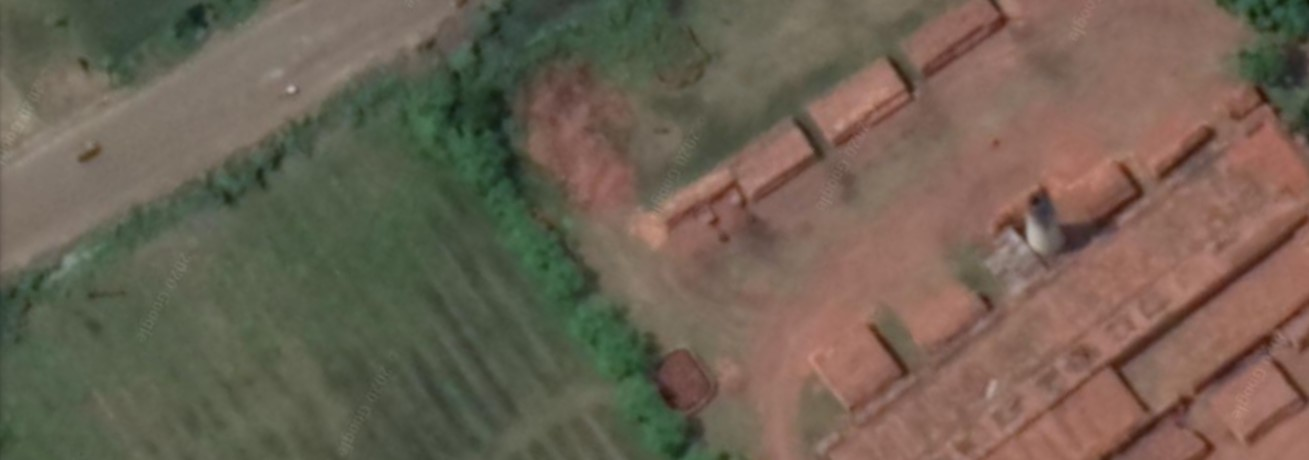kiln: (563, 116, 1295, 441)
